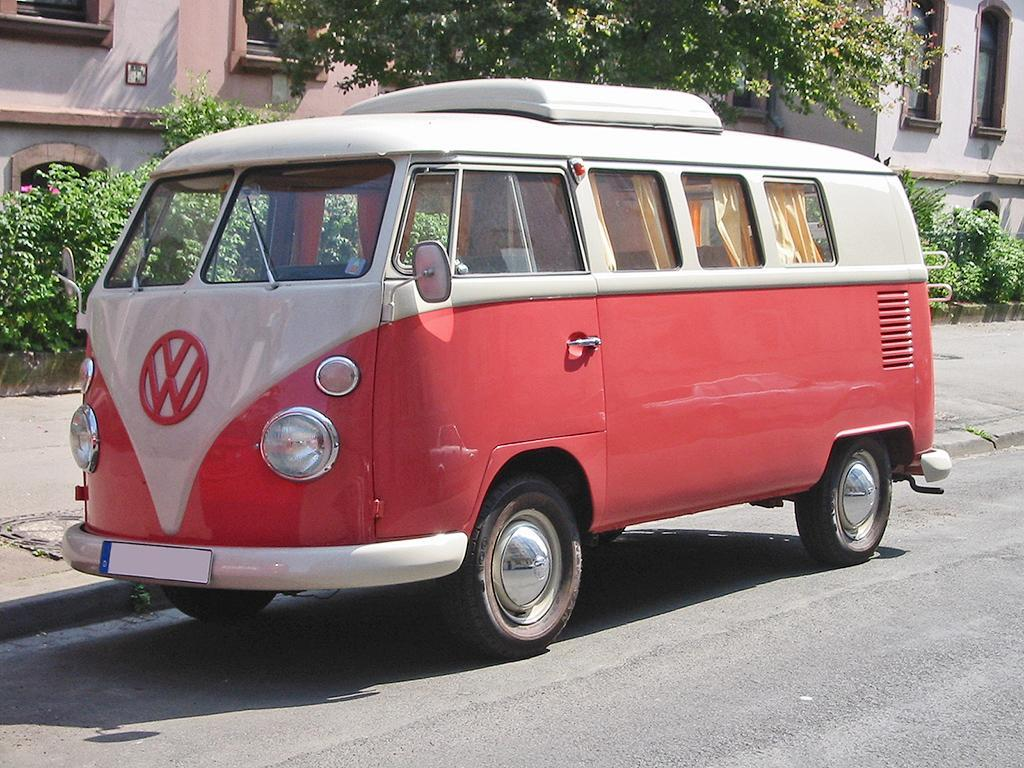van: (26, 96, 957, 696)
